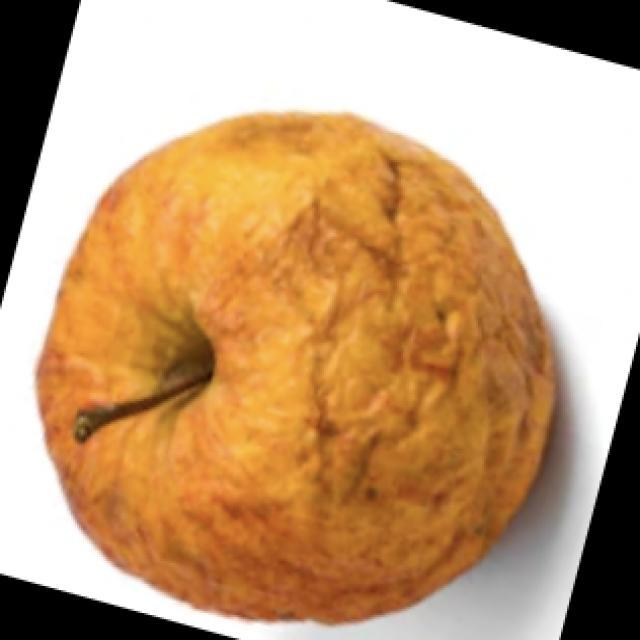Rotten: (37, 101, 550, 606)
